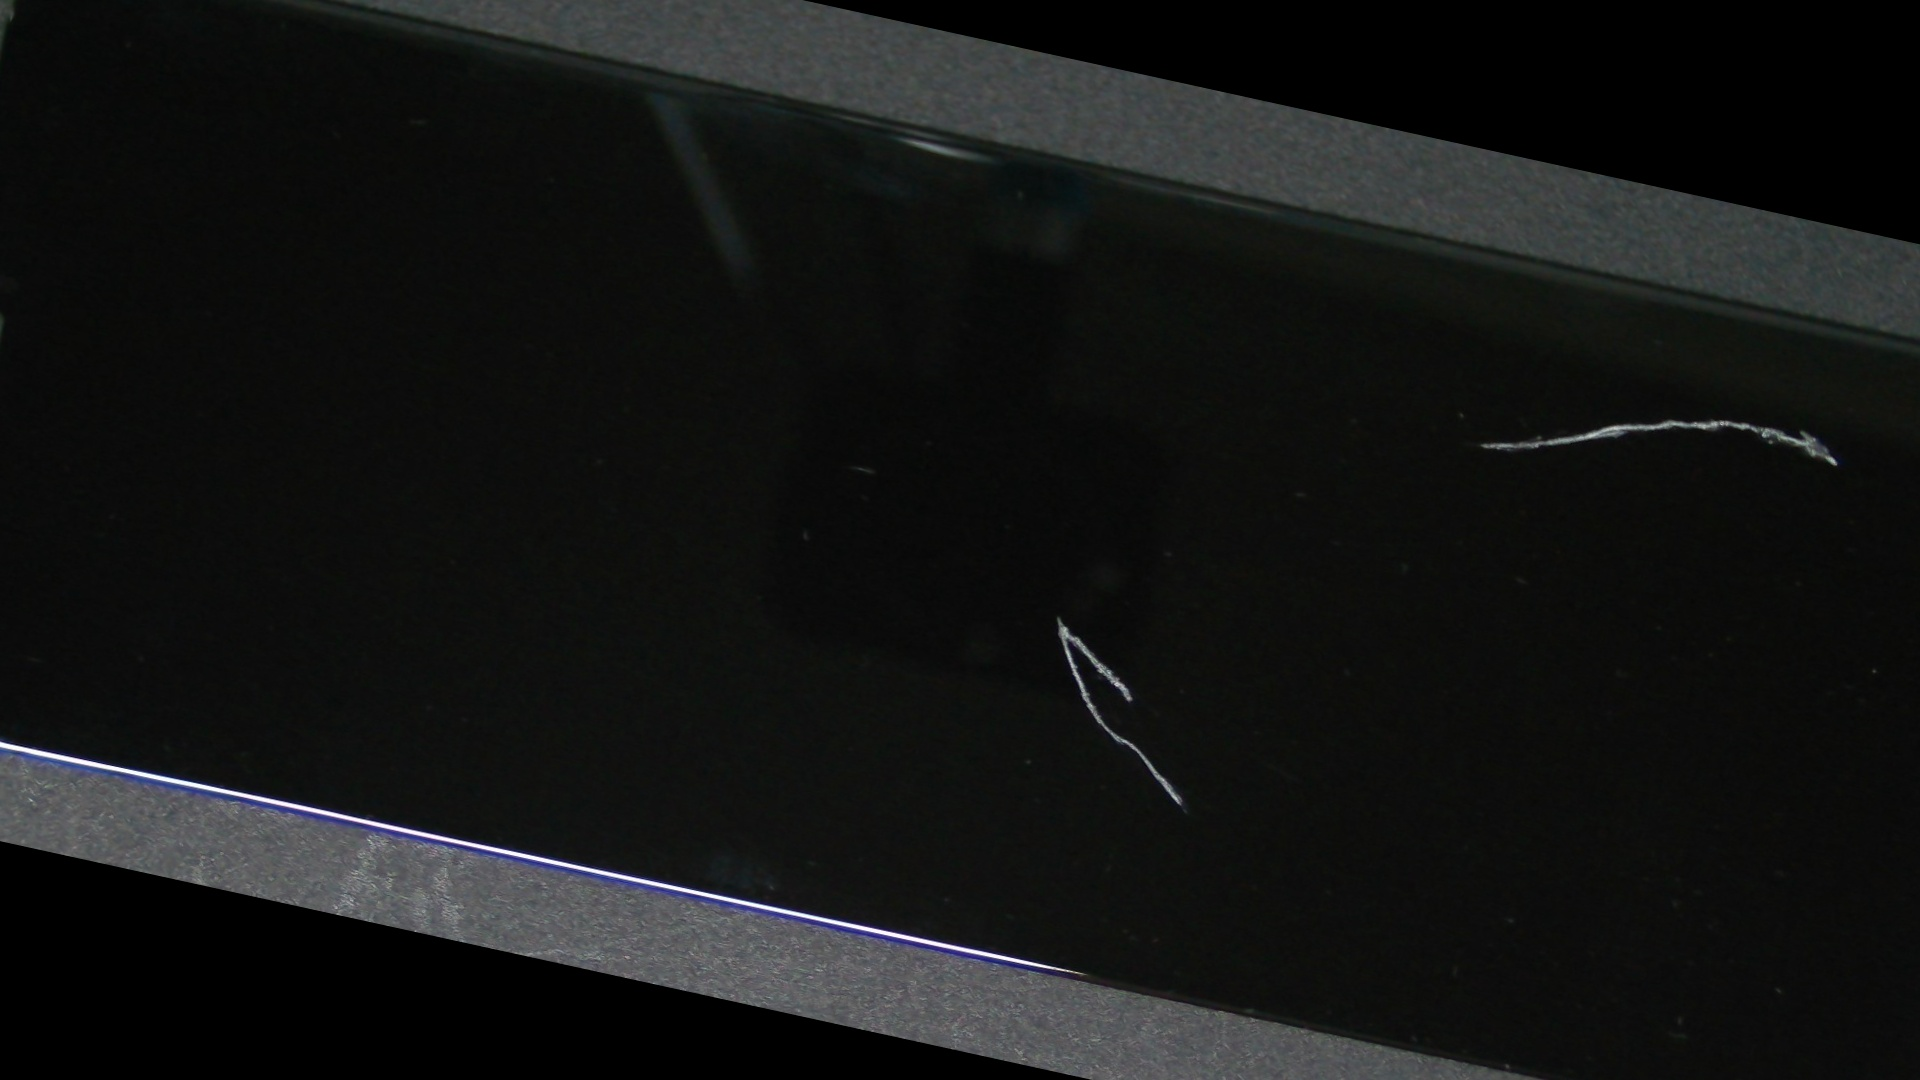oil: (419, 222, 1700, 1011), (862, 128, 1920, 603)
